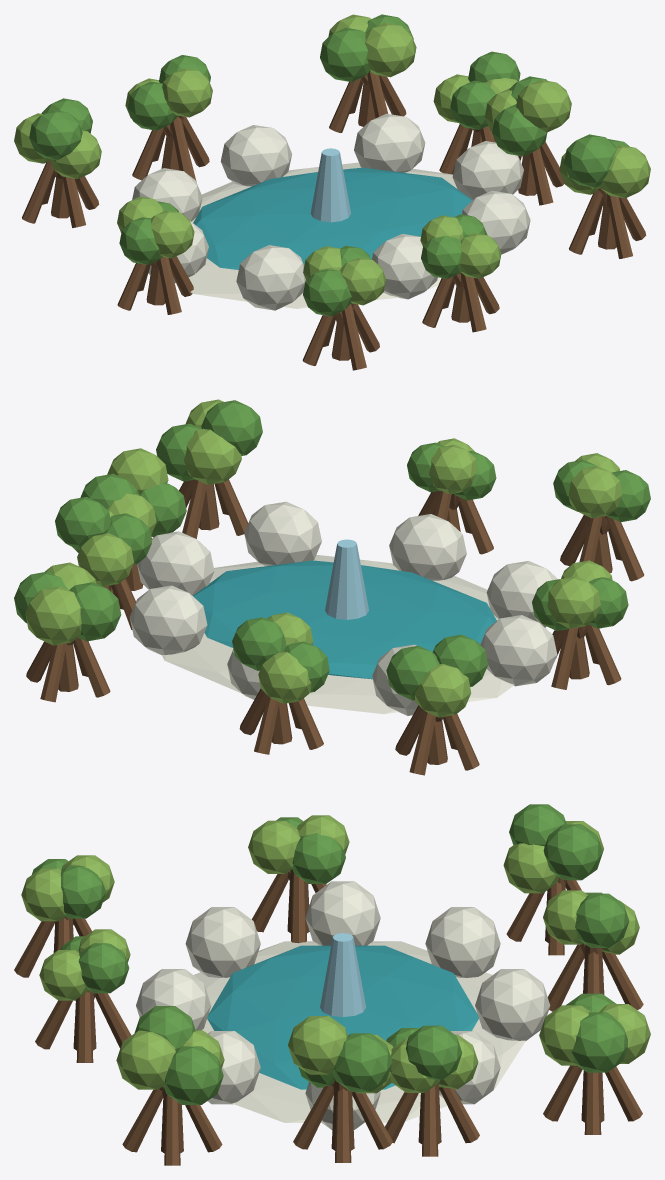
Rendered from FEATURE_FOUNTAIN_OF_YOUTH.fbx.
3 views of the same model, one above another, from view 1: azimuth 30°, elevation 25°; view 2: azimuth 150°, elevation 25°; view 3: azimuth 270°, elevation 25° (orthographic). The views are drawn at different scales.
Visible parts, largest first — view 1: Spring_water, Spring_rocks.005, Spring_rocks.002, Spring_rocks.001, Spring_rocks, Limestone_basin, Spring_rocks.006, Spring_rocks.007, Broadleaf_crown.119, Bubbling_spring, Spring_rocks.003, Broadleaf_crown.118 (+53 smaller); view 2: Spring_water, Limestone_basin, Spring_rocks.001, Spring_rocks.004, Spring_rocks.006, Spring_rocks.007, Spring_rocks, Spring_rocks.005, Broadleaf_crown.117, Bubbling_spring, Broadleaf_crown.125, Broadleaf_crown.109 (+52 smaller); view 3: Spring_water, Limestone_basin, Spring_rocks.002, Spring_rocks.005, Spring_rocks.003, Spring_rocks.004, Bubbling_spring, Spring_rocks.006, Broadleaf_crown.124, Broadleaf_crown.104, Broadleaf_crown.116, Broadleaf_crown.107 (+50 smaller).
Part boxes in pixels (box(x1,y1,x2,y2)): Spring_water: box(193, 167, 472, 269); Spring_rocks.005: box(236, 245, 306, 310); Spring_rocks.002: box(220, 125, 291, 186); Spring_rocks.001: box(354, 113, 425, 172); Spring_rocks: box(452, 141, 523, 199); Limestone_basin: box(188, 162, 457, 308); Spring_rocks.006: box(372, 234, 437, 299); Spring_rocks.007: box(462, 190, 530, 254); Broadleaf_crown.119: box(365, 22, 416, 77); Bubbling_spring: box(310, 148, 350, 222); Spring_rocks.003: box(132, 168, 202, 221); Broadleaf_crown.118: box(320, 27, 370, 82); Spring_water: box(193, 560, 496, 679); Limestone_basin: box(162, 554, 514, 714); Spring_rocks.001: box(129, 585, 207, 654); Spring_rocks.004: box(480, 615, 557, 686); Spring_rocks.006: box(389, 514, 466, 580); Spring_rocks.007: box(244, 501, 321, 565); Spring_rocks: box(137, 531, 214, 595); Spring_rocks.005: box(486, 561, 557, 627); Broadleaf_crown.117: box(25, 586, 81, 645); Bubbling_spring: box(325, 539, 368, 619); Broadleaf_crown.125: box(184, 428, 241, 484); Broadleaf_crown.109: box(415, 664, 471, 717); Spring_water: box(207, 945, 478, 1089); Limestone_basin: box(193, 941, 525, 1122); Spring_rocks.002: box(475, 969, 550, 1040); Spring_rocks.005: box(185, 907, 260, 977); Spring_rocks.003: box(425, 907, 500, 977); Spring_rocks.004: box(305, 881, 380, 945); Bubbling_spring: box(320, 933, 366, 1016); Spring_rocks.006: box(136, 969, 211, 1030); Broadleaf_crown.124: box(163, 1046, 223, 1104); Broadleaf_crown.104: box(333, 1033, 392, 1091); Broadleaf_crown.116: box(571, 1012, 627, 1072); Broadleaf_crown.107: box(288, 1016, 347, 1074).
Size of the model in its own units: 132 by 32.22 by 135.
